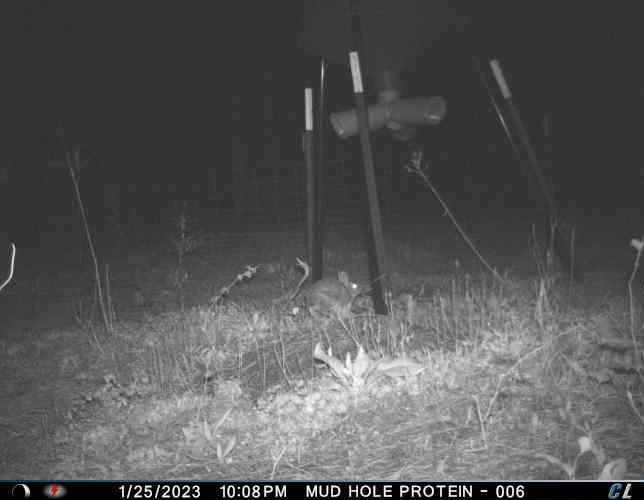Rabbit: (308, 269, 364, 322)
